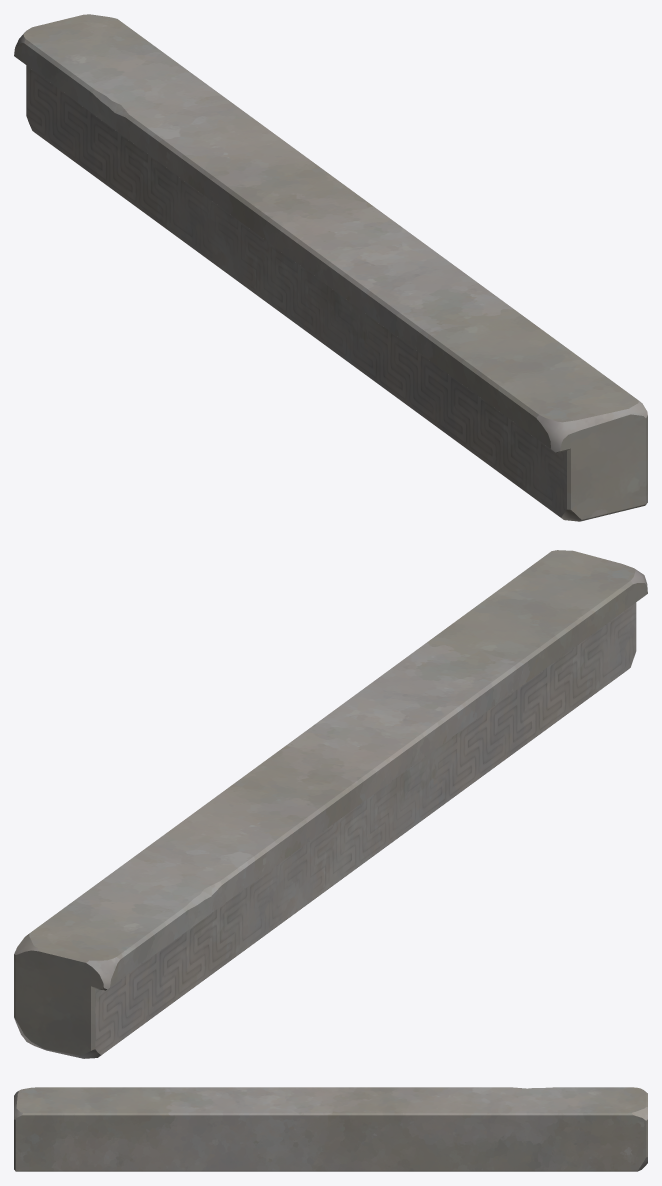
The model's file is SM_Pillar_Horizontal_Large.fbx.
3 renders of one model, top to bottom at view 1: azimuth 30°, elevation 25°; view 2: azimuth 150°, elevation 25°; view 3: azimuth 270°, elevation 25°, orthographic. The views are drawn at different scales.
Visible parts, largest first — view 1: SM_Pillar_Horizontal_Large_LOD0; view 2: SM_Pillar_Horizontal_Large_LOD0; view 3: SM_Pillar_Horizontal_Large_LOD0.
Part boxes in pixels (x1=…): SM_Pillar_Horizontal_Large_LOD0: x1=14, y1=14, x2=647, y2=521; SM_Pillar_Horizontal_Large_LOD0: x1=14, y1=550, x2=647, y2=1058; SM_Pillar_Horizontal_Large_LOD0: x1=14, y1=1087, x2=647, y2=1171.
Bounding box in the file's own units: 101 × 1000 × 102.
1 material, 1 textured.
